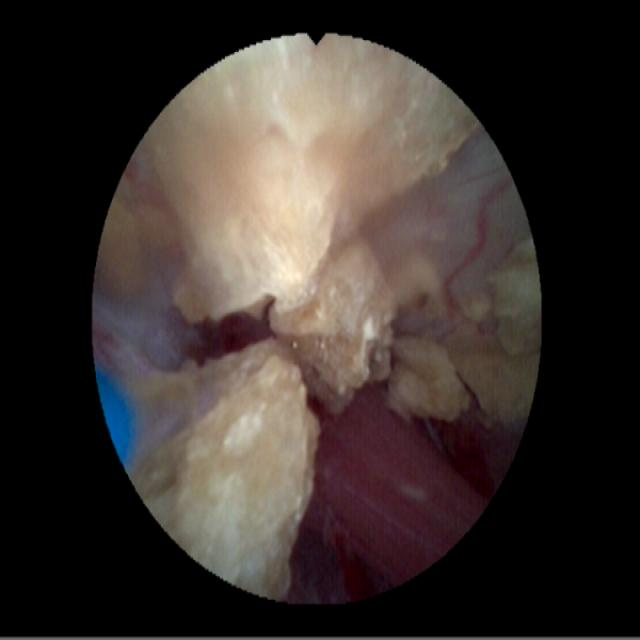fiber: (98, 372, 132, 462)
stone: (103, 40, 473, 592), (388, 247, 536, 419)
